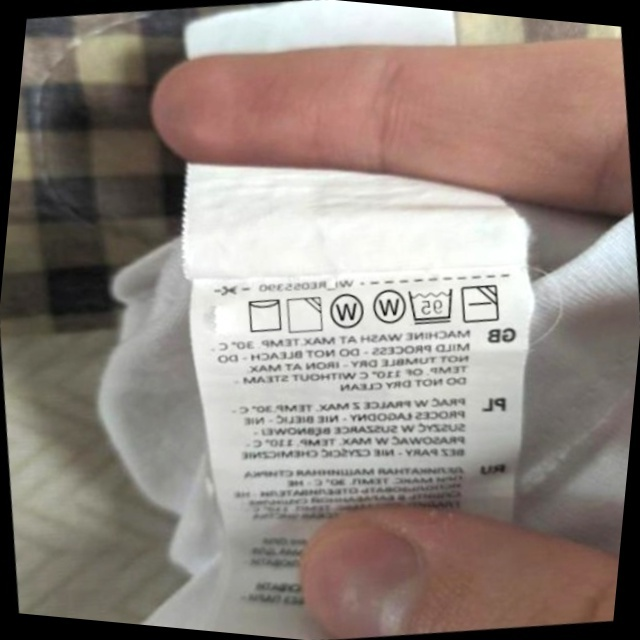95C: (402, 280, 460, 331)
dry_flat_in_shade: (456, 277, 506, 329)
line_dry: (240, 291, 288, 339)
shade_dry: (281, 290, 329, 339)
wet_clean: (323, 288, 370, 336), (365, 281, 410, 330)
